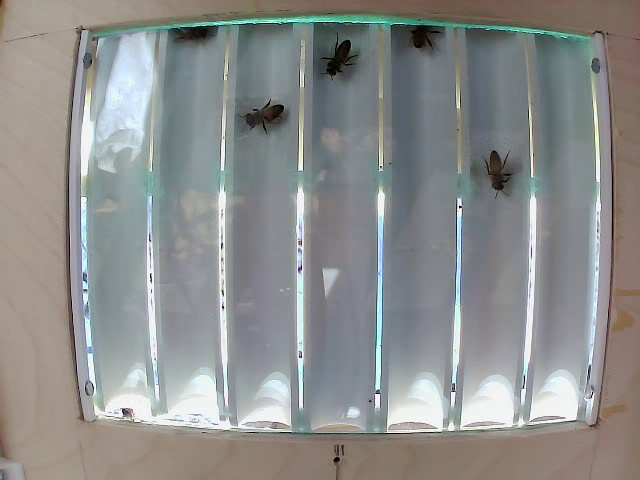bee: (239, 90, 293, 144), (319, 26, 379, 72), (468, 154, 512, 204), (410, 15, 448, 49)
